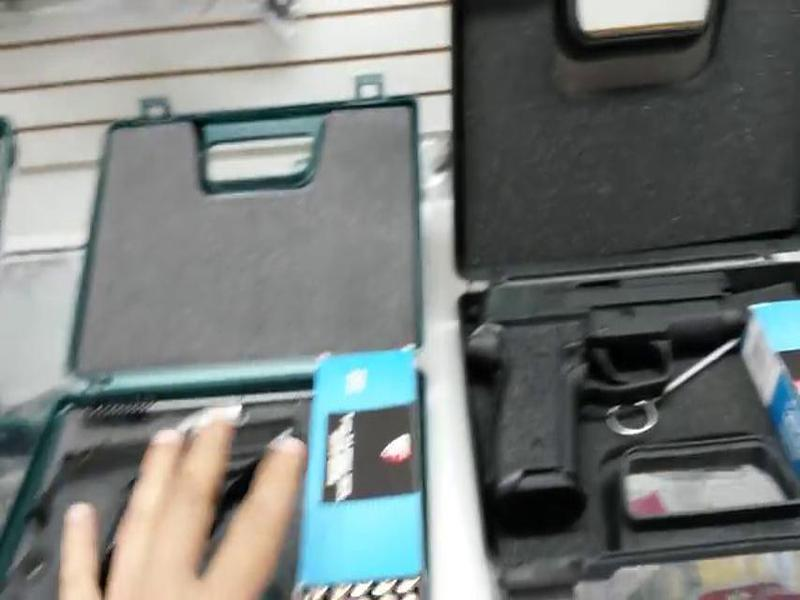Pistola: (470, 241, 768, 527)
